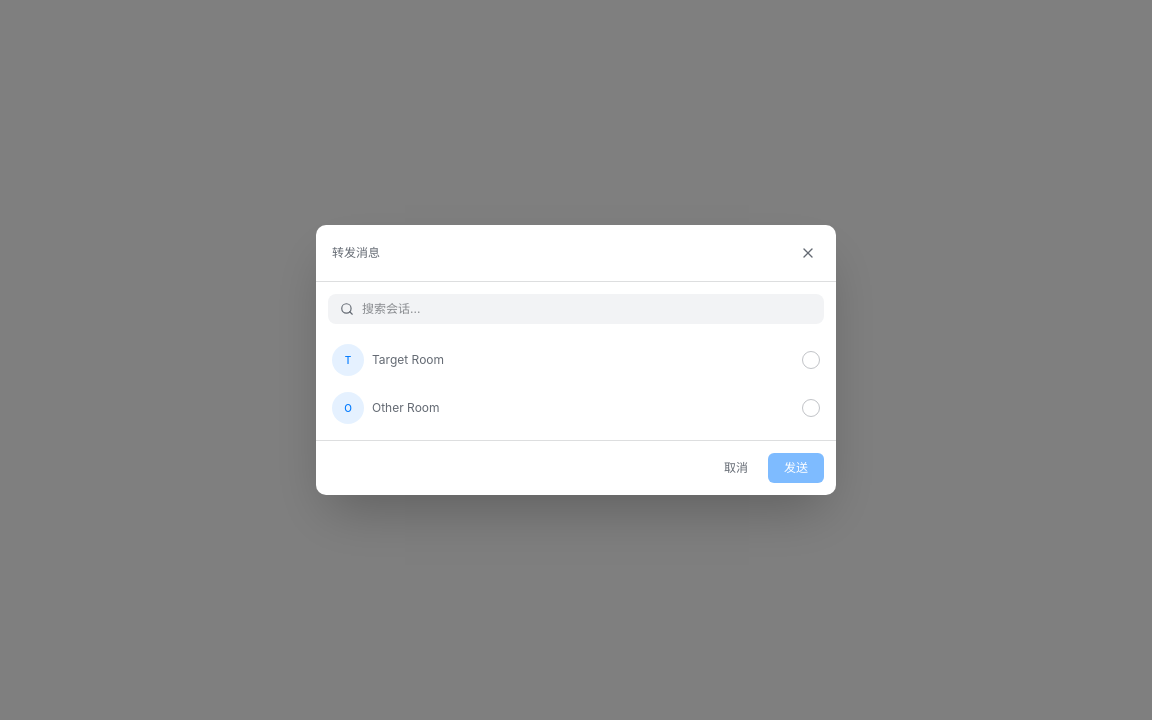
it: forwardDialog › shows an empty state when the search matches no conversation
The image size is (1152, 720).
In the field with placeholder "搜索会话...": point(587, 309) [362,300,812,318], type "zzz-no-match"
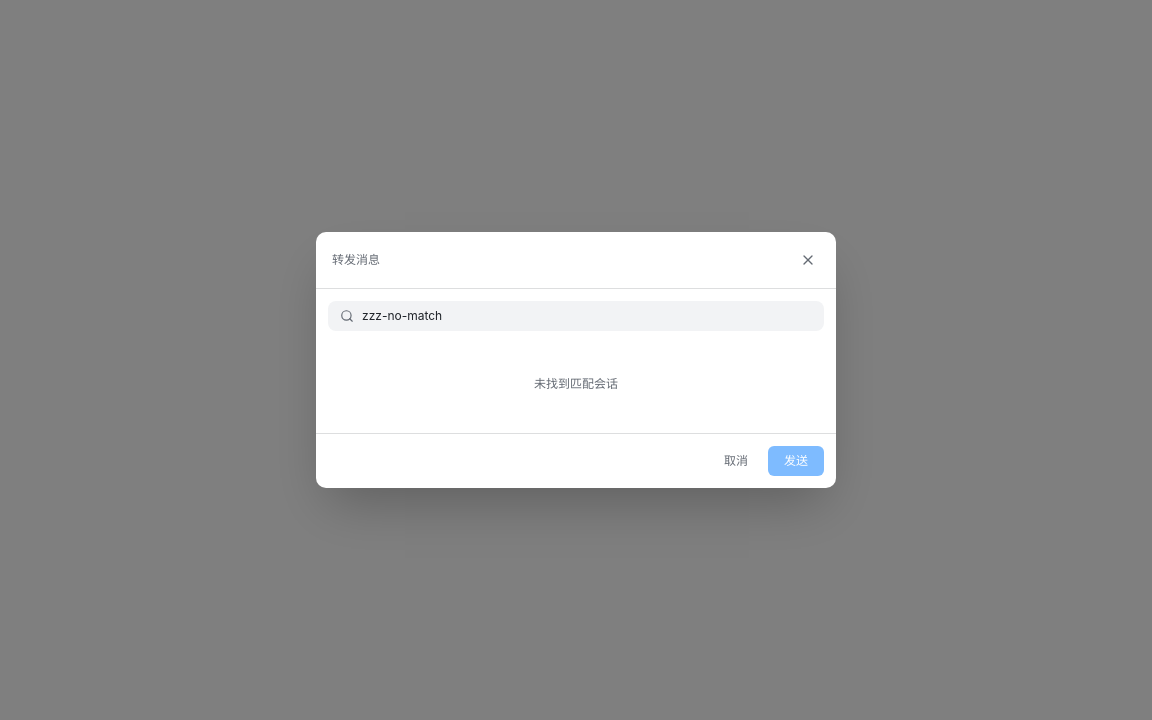
Expected: the text "未找到匹配会话" is shown, [534,376,618,391]
Expected: the element with test id "forward-room-!target:localhost" is gone
